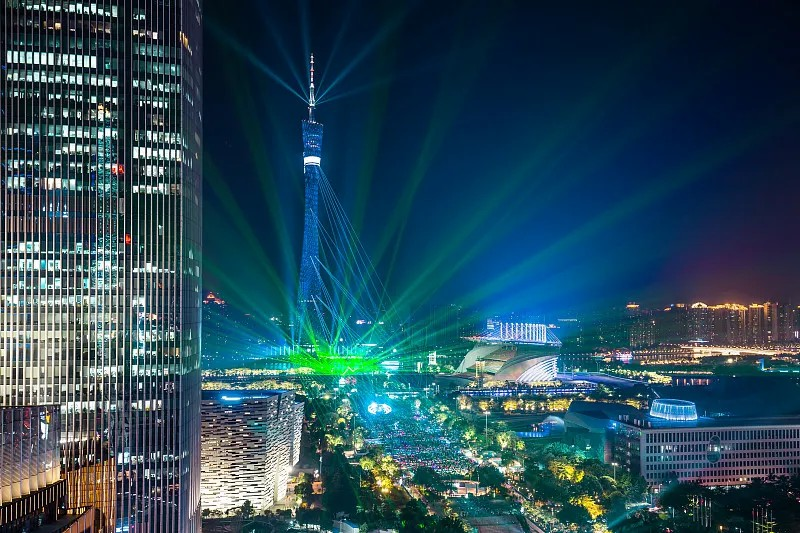Canton: (294, 54, 331, 356)
